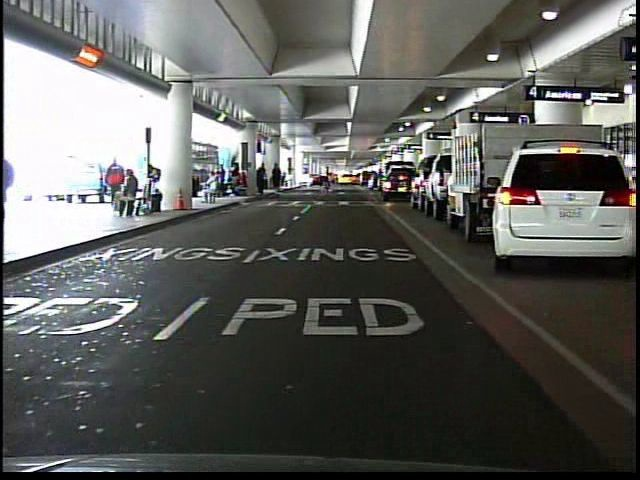person: (201, 171, 224, 208), (316, 164, 335, 195)
